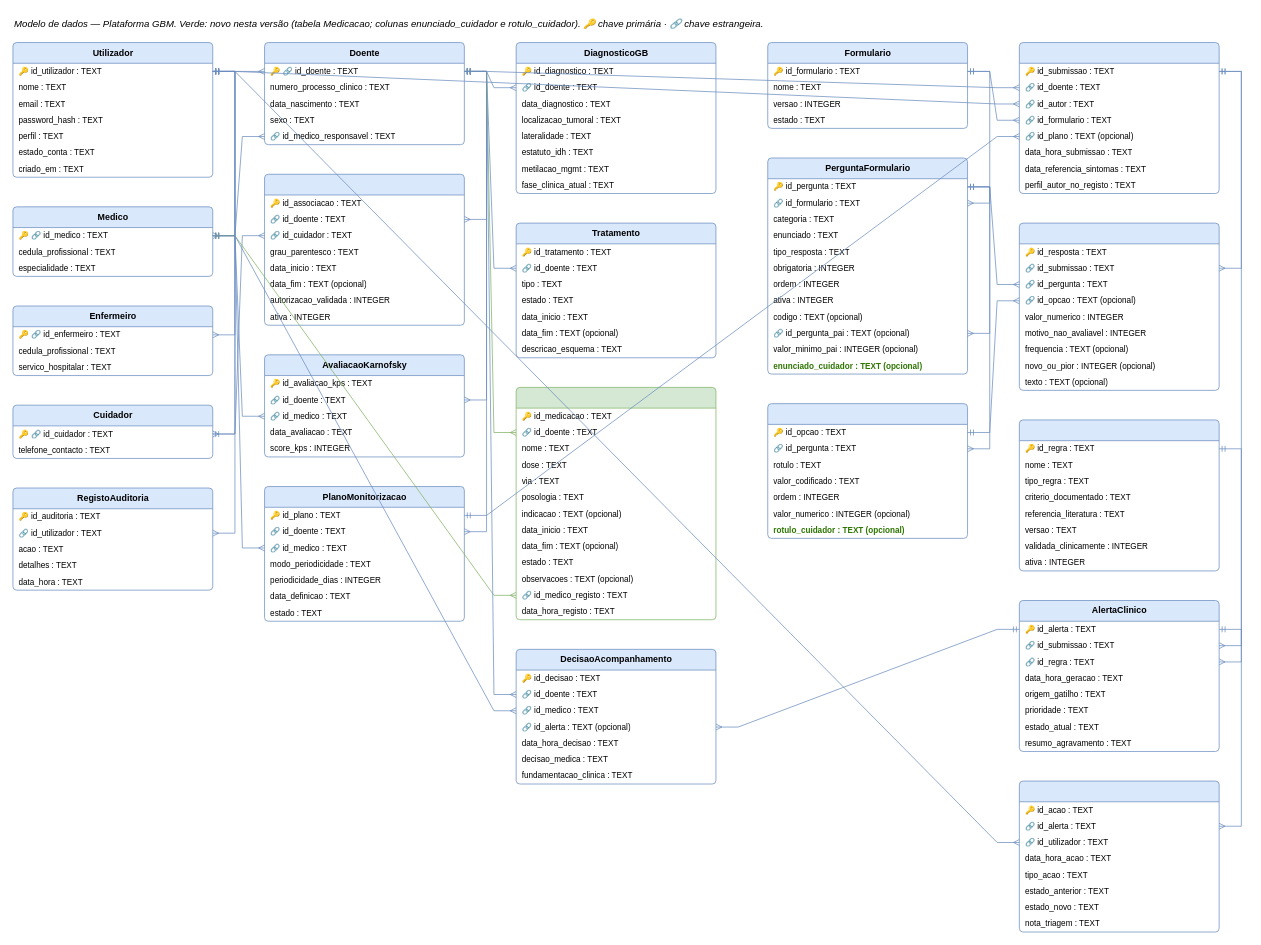
This 1261x945 diagram has some shape labels left out. Here are the shapes that lost their labels. From the top down, the box of each, then its label:
(1019, 42, 1219, 194): SubmissaoMonitorizacao
(264, 174, 464, 325): DoenteCuidador
(1019, 222, 1219, 390): RespostaMonitorizacao
(767, 403, 968, 538): OpcaoResposta
(515, 387, 716, 620): Medicacao (nova)
(1019, 419, 1219, 571): RegraAlerta
(1019, 780, 1219, 932): HistoricoAcaoAlerta
